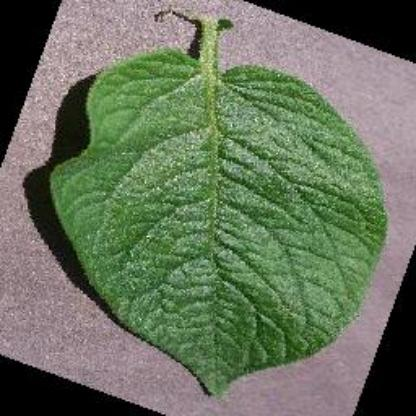Healthy-plant: (41, 6, 390, 390)
